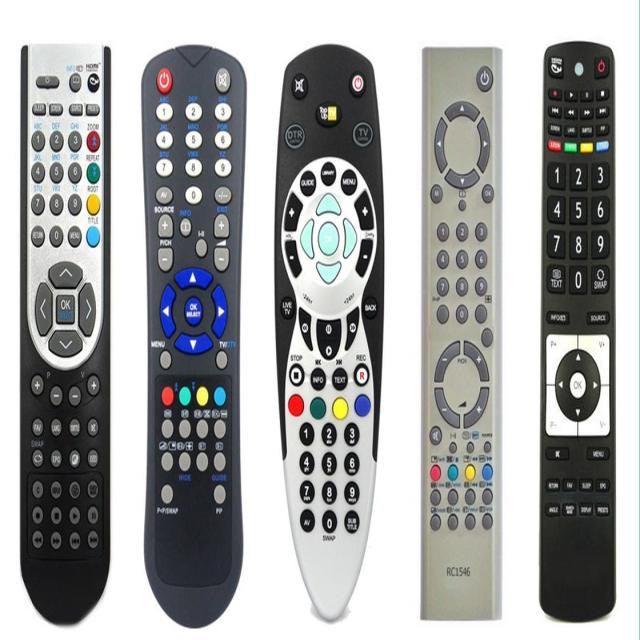remote: (272, 38, 384, 624), (142, 46, 243, 627), (19, 40, 112, 624), (421, 48, 507, 624), (541, 40, 615, 629)
